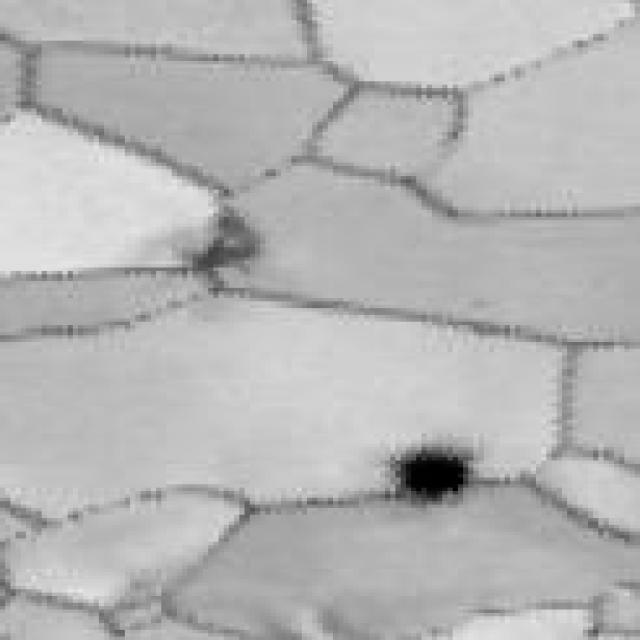good_void: (391, 438, 476, 509), (177, 207, 258, 280)
